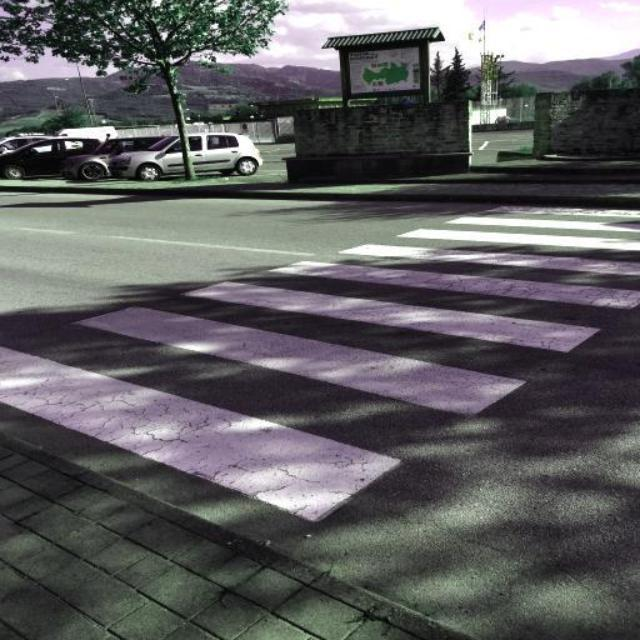sidewalk: (0, 203, 640, 534)
